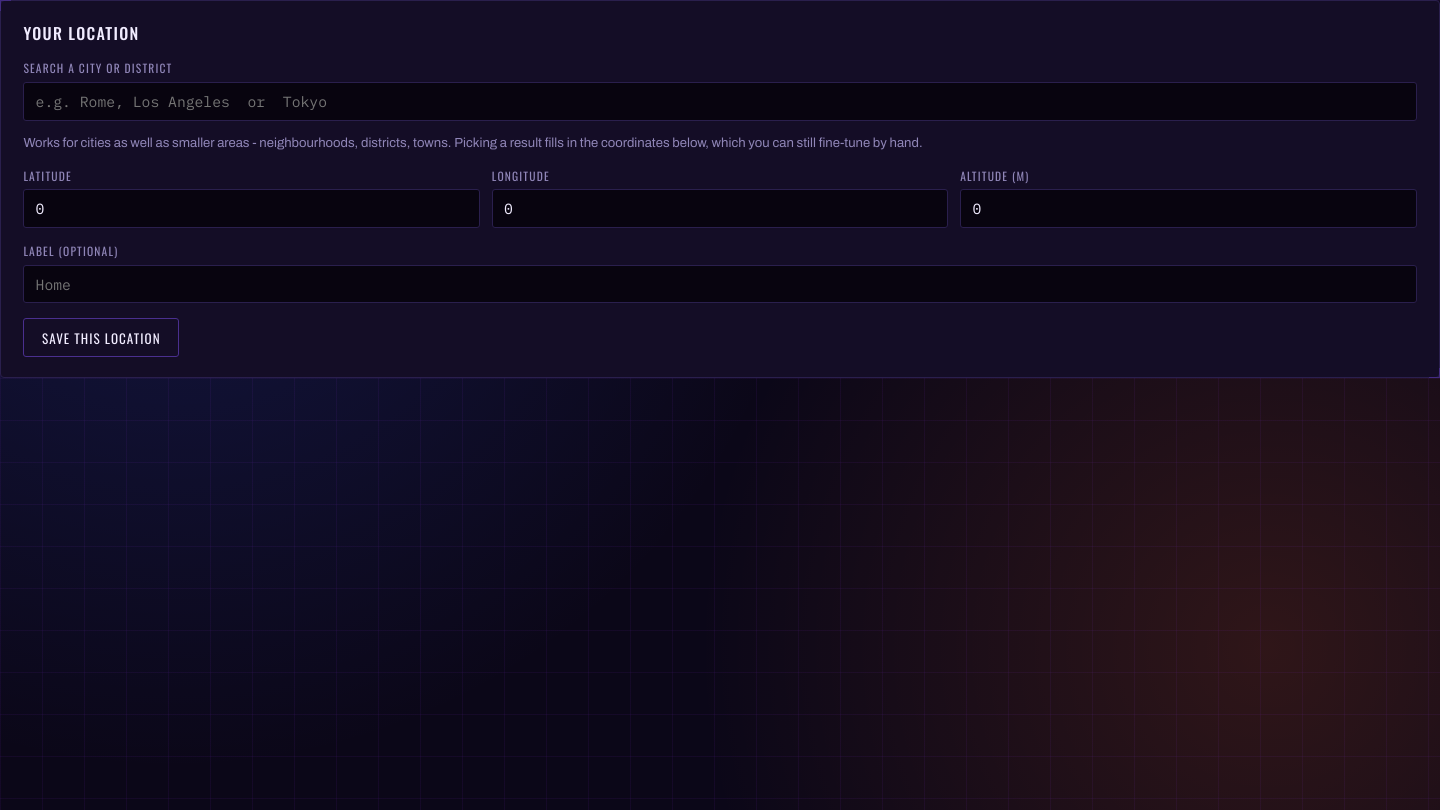
LocationForm › shows an error message when the place search fails
In the dropdown labelled "Search a city or district": [720, 101] box [23,82,1417,121], type "Somewhere"
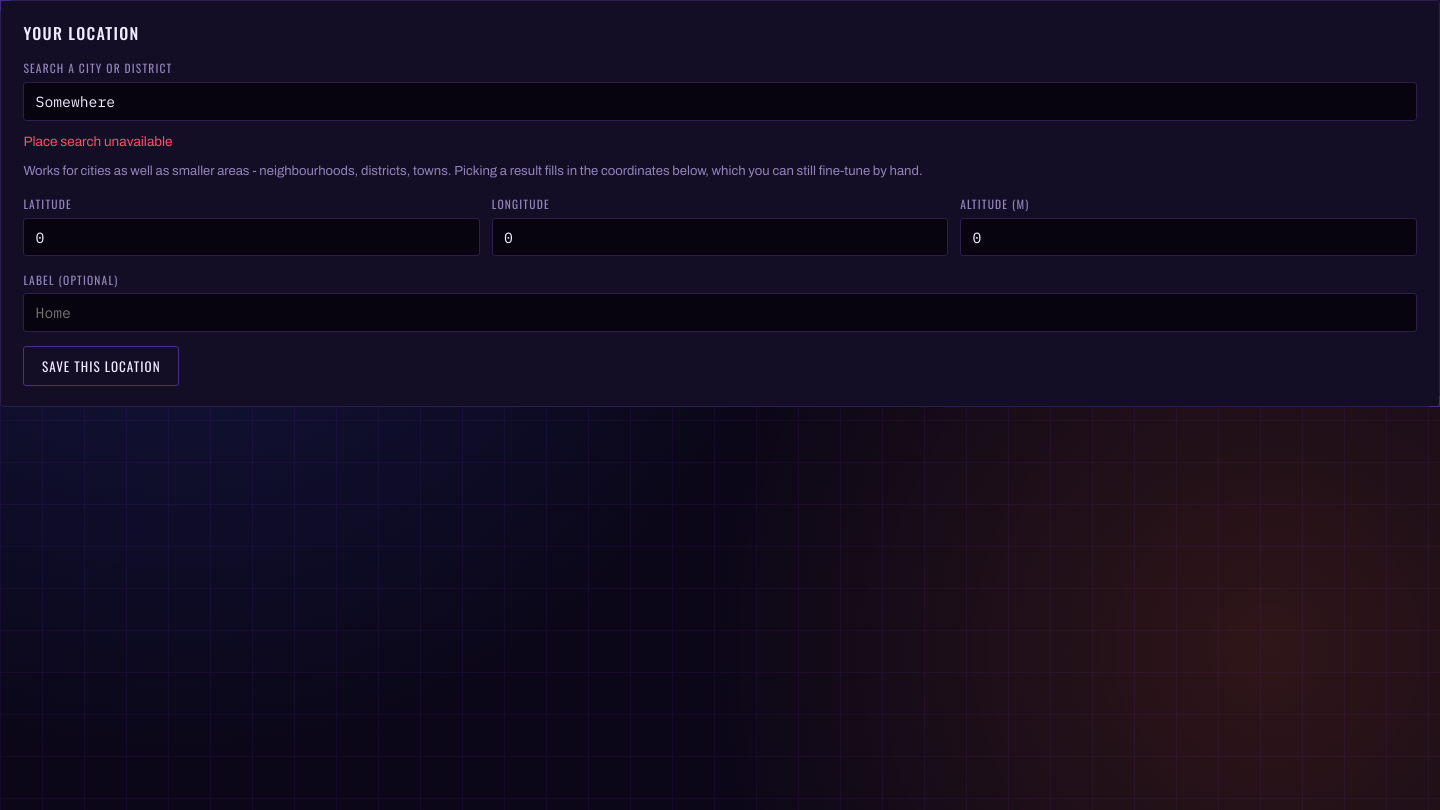
Expected: the text "Place search unavailable" is shown, [23,134,173,149]
